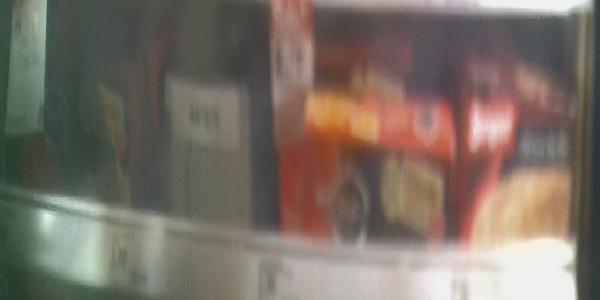pizza1: (303, 91, 455, 246), (457, 104, 577, 247)
